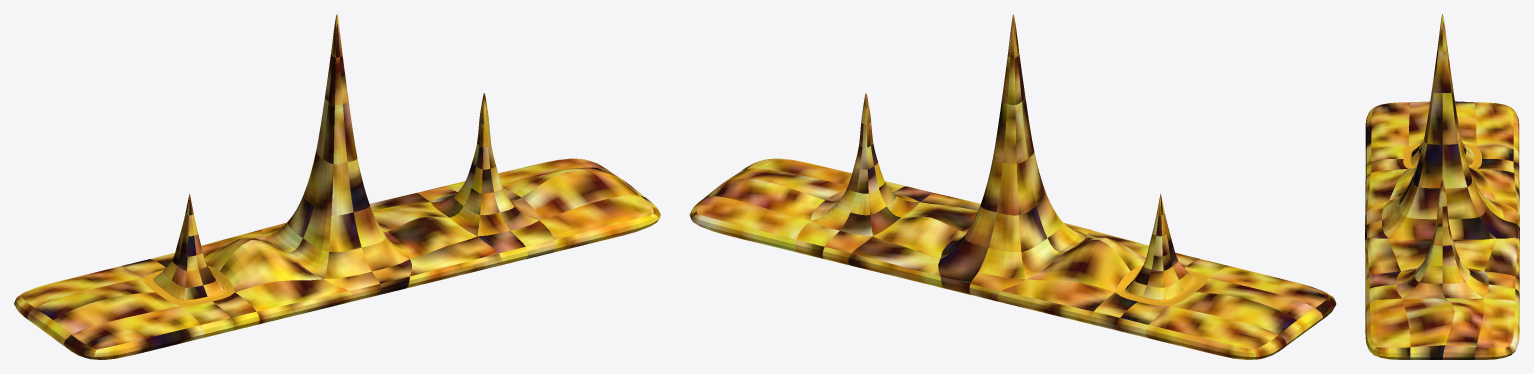
File: Plataforma.fbx
3 views of the same model, side by side, from view 1: azimuth 30°, elevation 25°; view 2: azimuth 150°, elevation 25°; view 3: azimuth 270°, elevation 25° (orthographic). The views are drawn at different scales.
Parts seen in each view (by area): view 1: Plane; view 2: Plane; view 3: Plane.
Part boxes in pixels (x1,y1,x2,y2): Plane: (14,14,660,359); Plane: (689,14,1336,359); Plane: (1365,14,1519,359).
Size of the model in its own units: 502 by 210 by 130.
